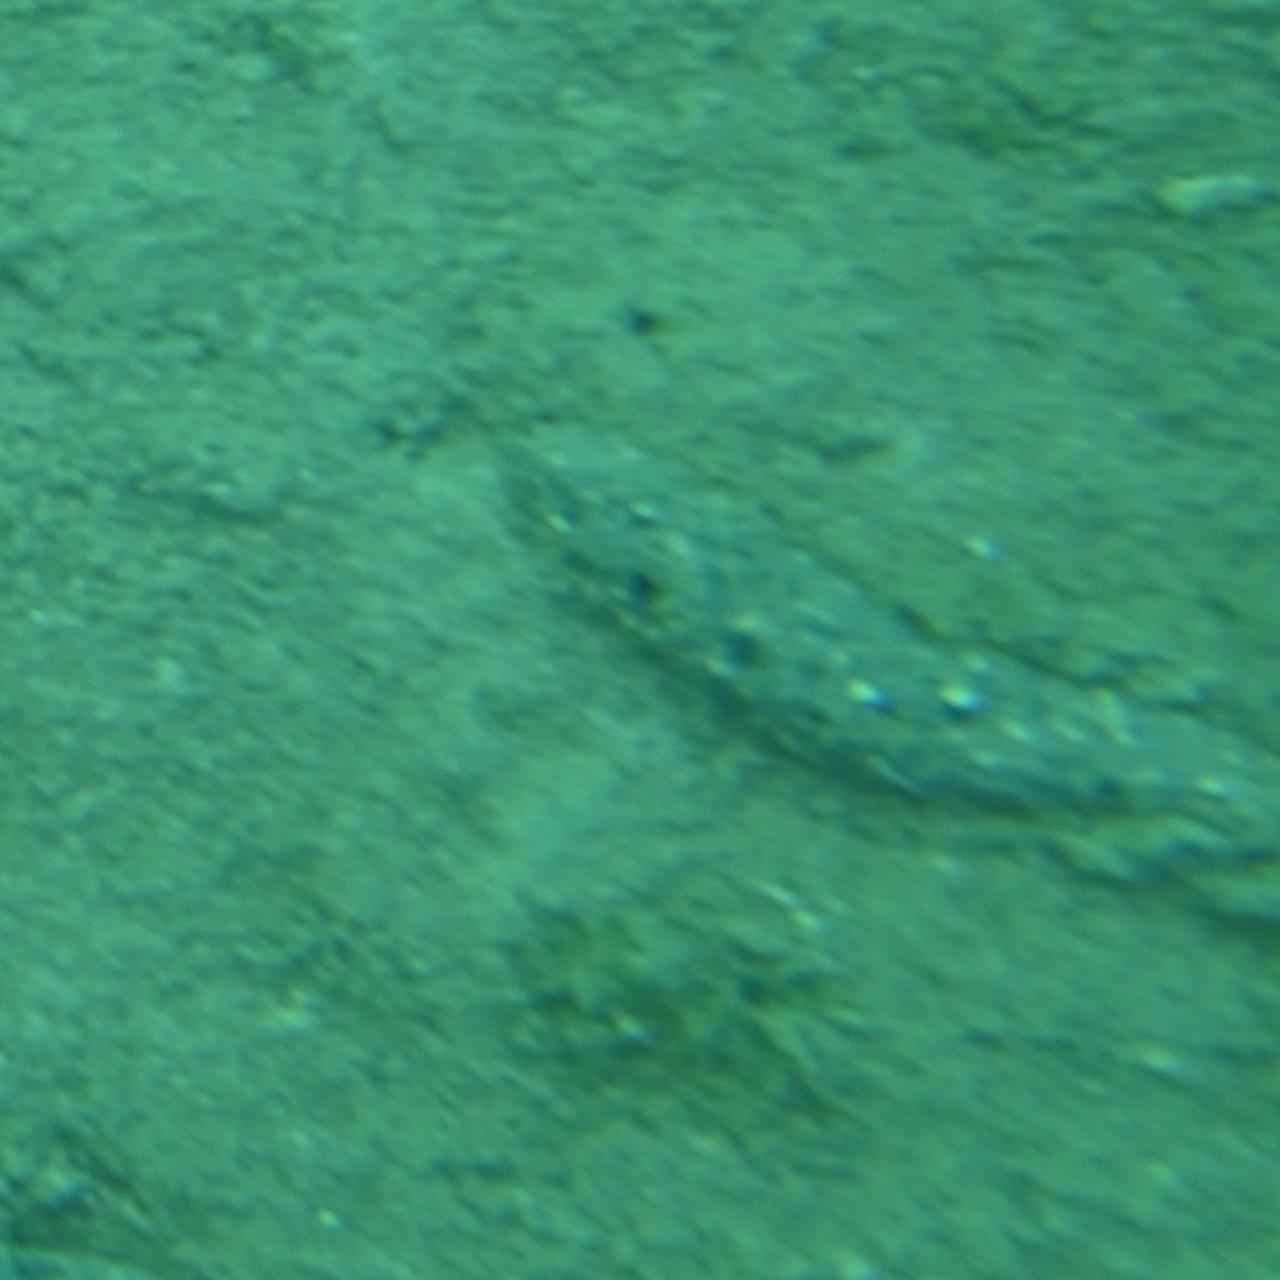Holothuria tubulosa: (495, 399, 1279, 881)
